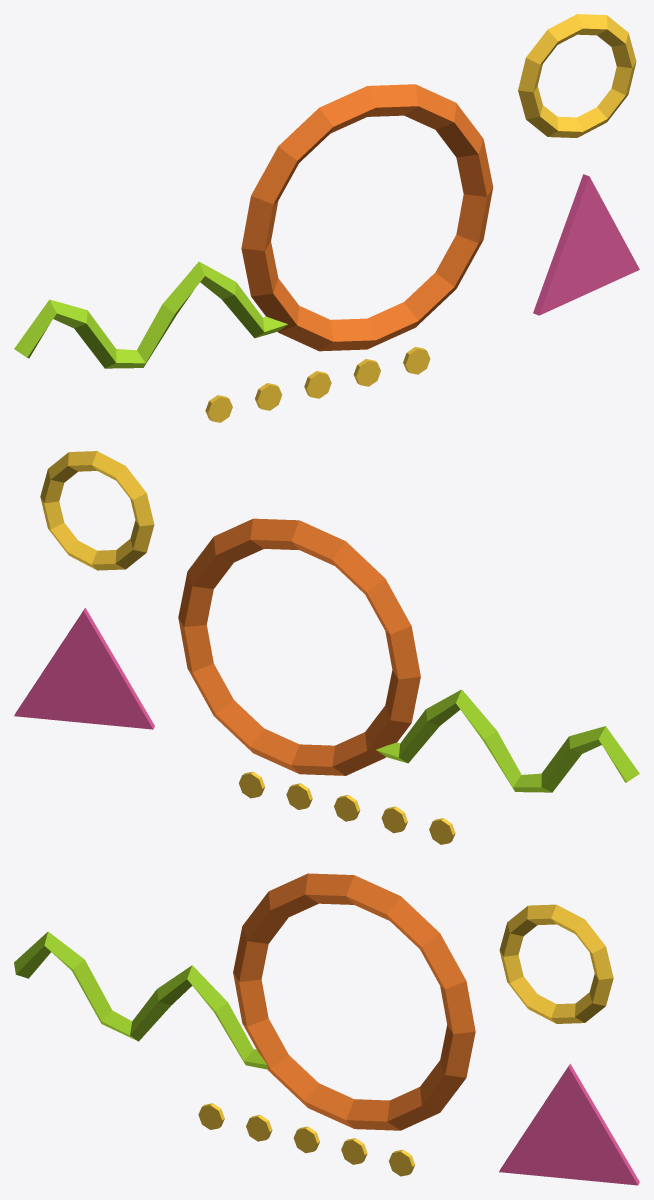
The picture shows the model from 3 angles, top to bottom: view 1: azimuth 30°, elevation 25°; view 2: azimuth 150°, elevation 25°; view 3: azimuth 330°, elevation 25°; orthographic projection. The views are drawn at different scales.
Parts seen in each view (by area): view 1: ring_big, squiggle, triangle, ring_small, dot_0, dot_1, dot_2, dot_3, dot_4; view 2: ring_big, triangle, squiggle, ring_small; view 3: ring_big, triangle, squiggle, ring_small, dot_1, dot_0, dot_2, dot_3, dot_4.
Boxes of the visible parts, <box> form: ring_big: <box>241,84,493,351</box>; squiggle: <box>14,261,287,368</box>; triangle: <box>533,174,639,315</box>; ring_small: <box>518,14,636,137</box>; dot_0: <box>205,395,232,422</box>; dot_1: <box>255,383,281,410</box>; dot_2: <box>304,371,331,398</box>; dot_3: <box>353,359,380,386</box>; dot_4: <box>403,347,430,374</box>; ring_big: <box>178,518,420,775</box>; triangle: <box>14,608,154,729</box>; squiggle: <box>376,689,639,792</box>; ring_small: <box>40,451,154,570</box>; ring_big: <box>233,873,475,1130</box>; triangle: <box>499,1063,639,1185</box>; squiggle: <box>14,931,267,1069</box>; ring_small: <box>499,904,613,1023</box>; dot_1: <box>246,1115,272,1141</box>; dot_0: <box>198,1103,224,1129</box>; dot_2: <box>293,1126,319,1153</box>; dot_3: <box>341,1138,367,1164</box>; dot_4: <box>388,1149,414,1176</box>.
Size of the model in its own units: 2.58 by 1.24 by 0.1823.
